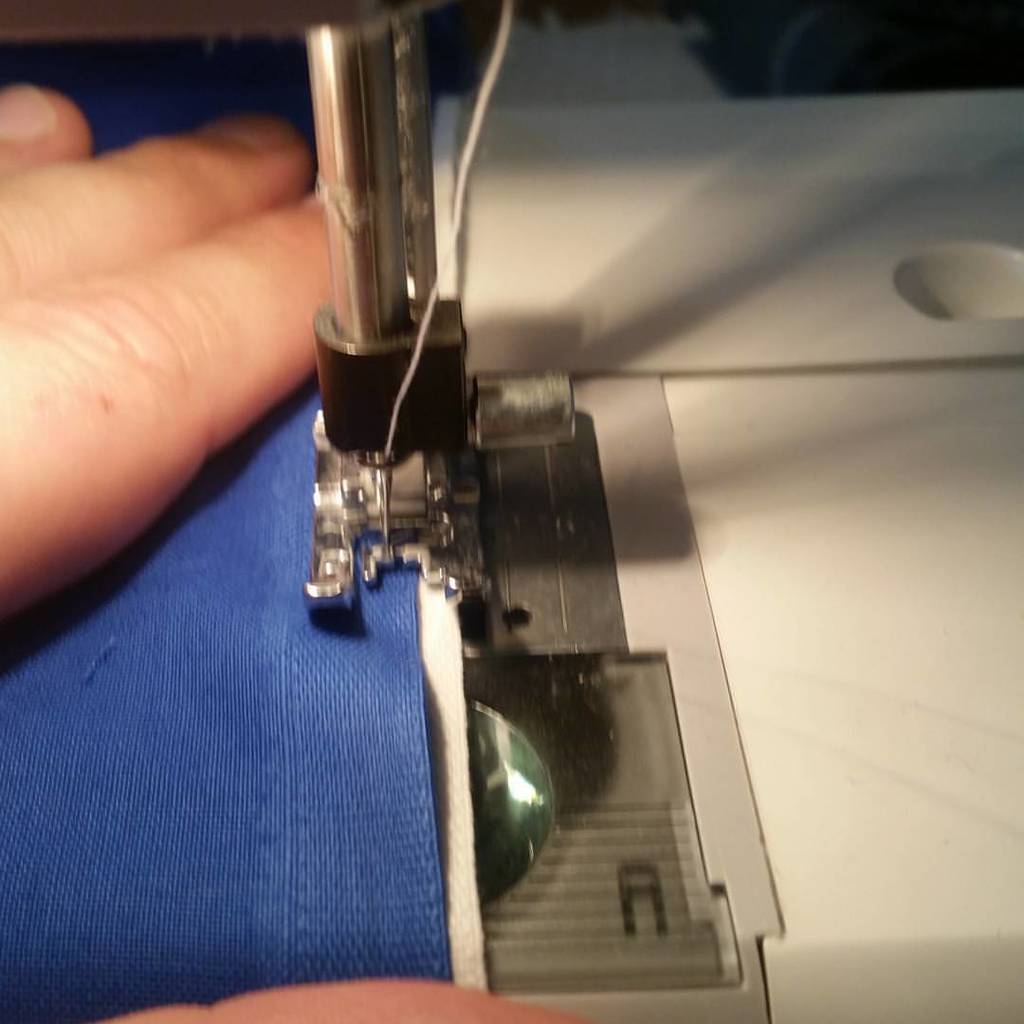person: (0, 83, 336, 675)
